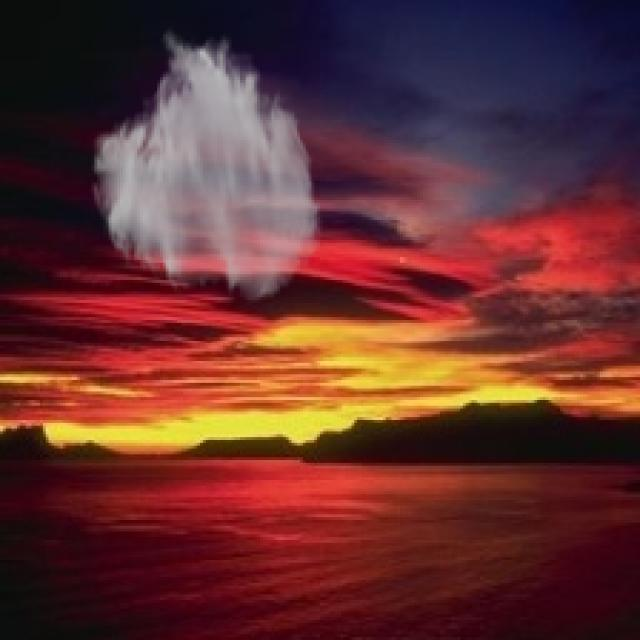smoke: (88, 26, 323, 306)
